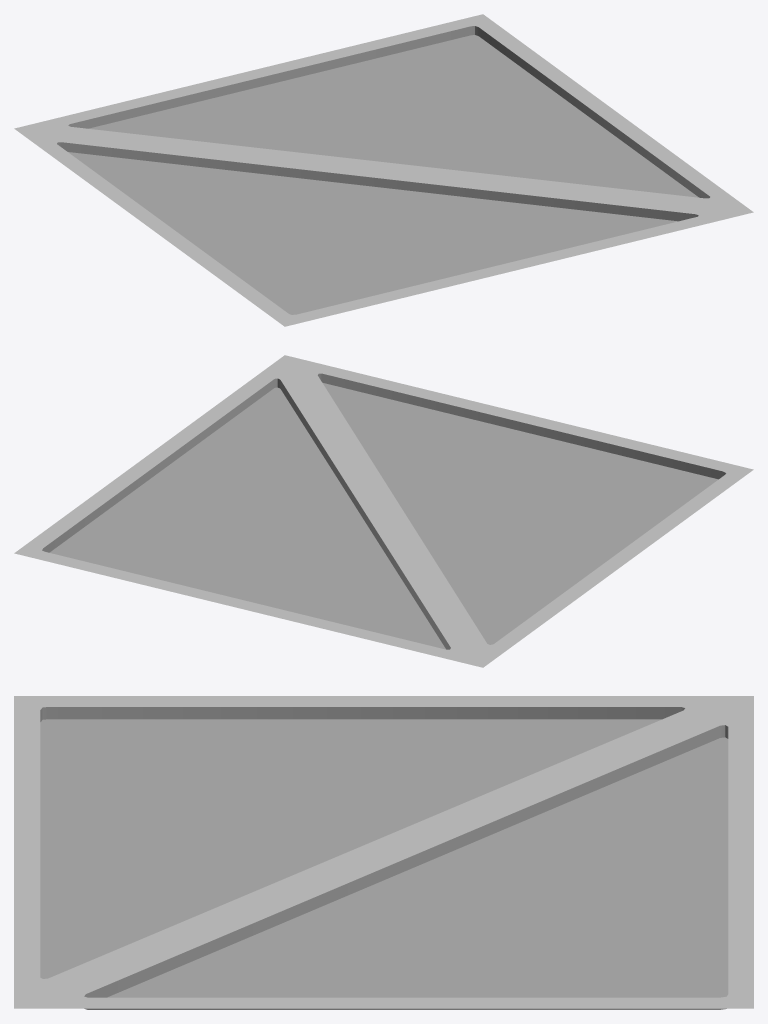
The model's file is Panel 2.FBX.
3 renders of one model, top to bottom at view 1: azimuth 30°, elevation 25°; view 2: azimuth 150°, elevation 25°; view 3: azimuth 270°, elevation 25°, orthographic. The views are drawn at different scales.
Visible parts, largest first — view 1: Pannel_2; view 2: Pannel_2; view 3: Pannel_2.
Boxes of the visible parts, box(x1,y1,x2,y2) form: Pannel_2: box(14, 14, 753, 326); Pannel_2: box(14, 355, 753, 667); Pannel_2: box(14, 696, 753, 1009).
Size of the model in its own units: 70 by 1.29 by 70.
Materials: 1 (1 with a texture image).
